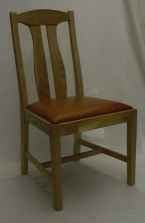obstacle: (10, 9, 136, 209)
